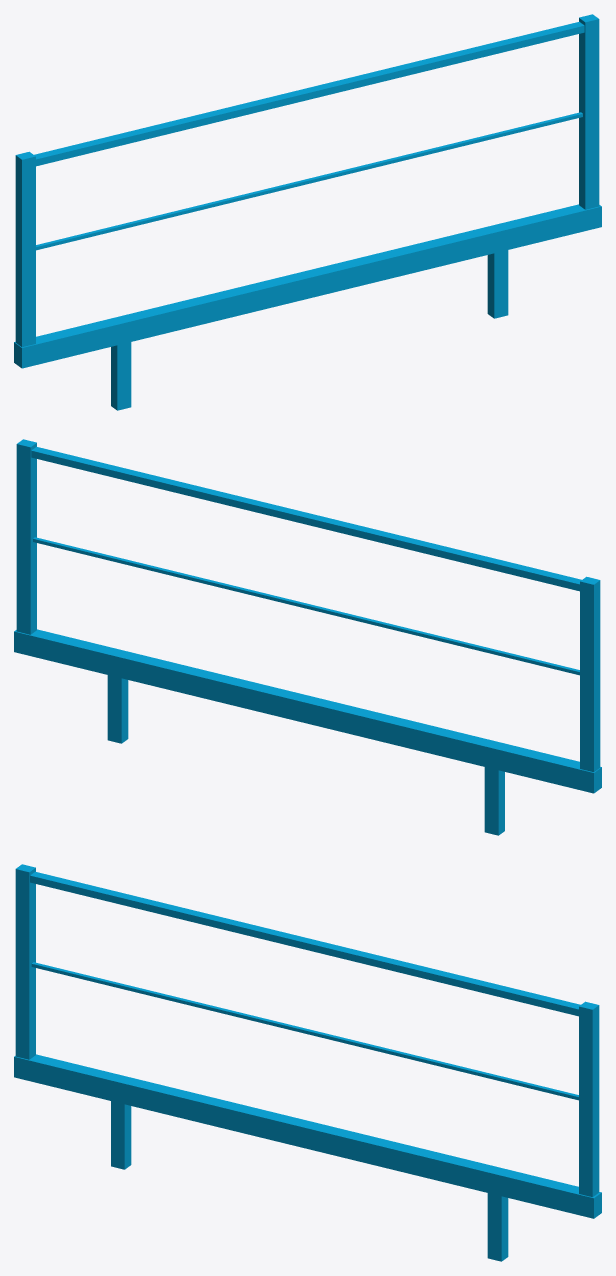
Rendered from Factory_Fence_03_Lod0.fbx.
The picture shows the model from 3 angles, top to bottom: view 1: azimuth 30°, elevation 25°; view 2: azimuth 150°, elevation 25°; view 3: azimuth 330°, elevation 25°; orthographic projection.
Parts seen in each view (by area): view 1: Factory_Fence_03_Lod0; view 2: Factory_Fence_03_Lod0; view 3: Factory_Fence_03_Lod0.
Boxes of the visible parts, left/top/right/bottom form: Factory_Fence_03_Lod0: left=14, top=14, right=601, bottom=410; Factory_Fence_03_Lod0: left=14, top=439, right=601, bottom=835; Factory_Fence_03_Lod0: left=14, top=864, right=601, bottom=1261.
Size of the model in its own units: 263 by 119 by 6.3.
